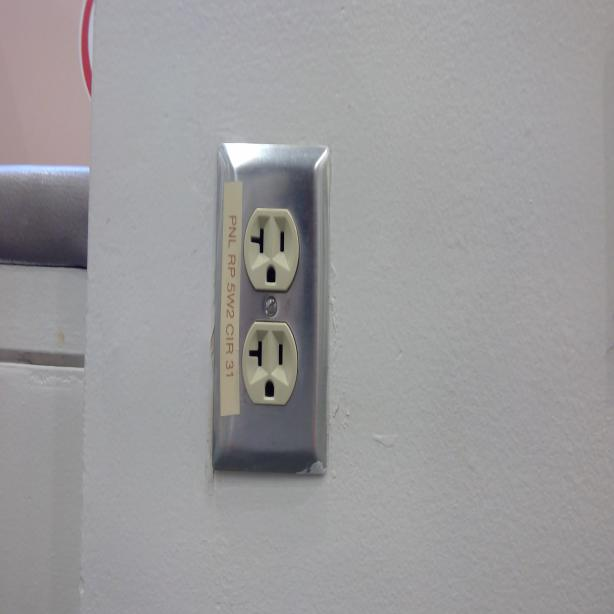typeb: (244, 210, 298, 293), (245, 322, 297, 405)
